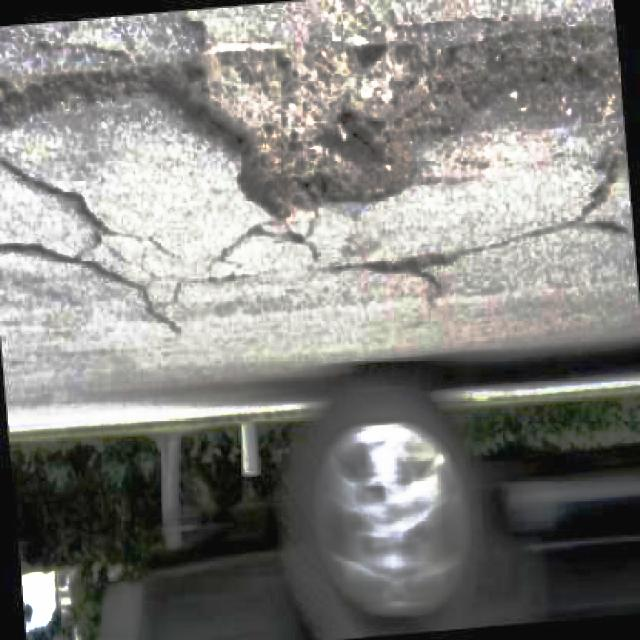pothole: (149, 25, 623, 217)
